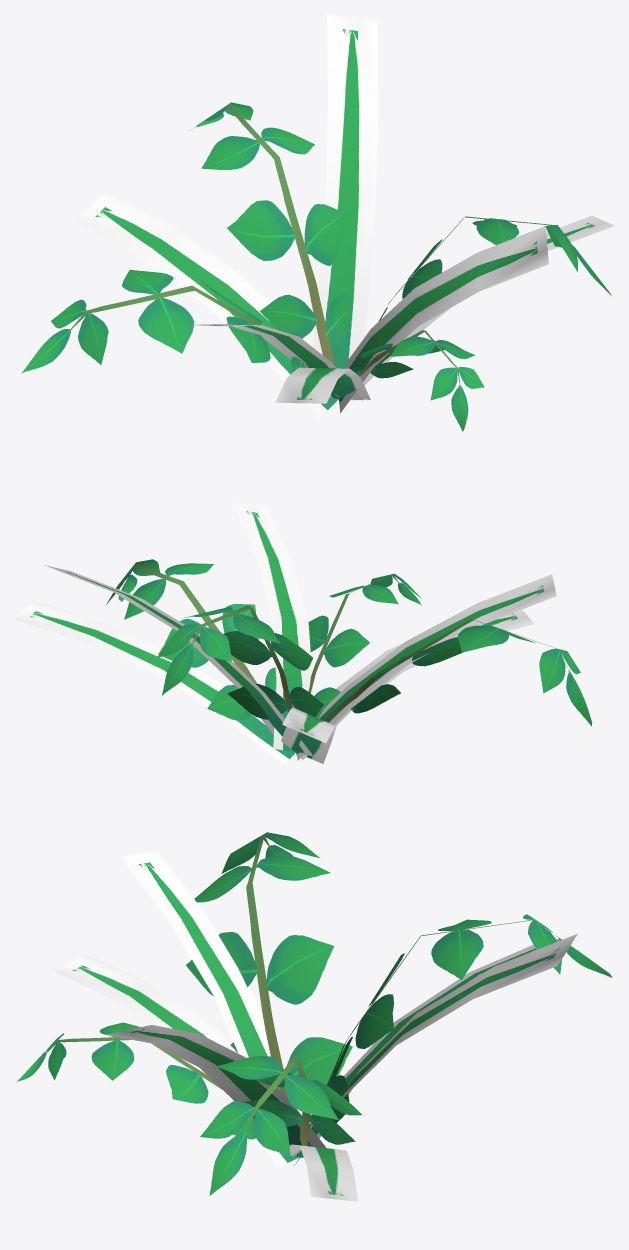
The model's file is plant-01.fbx.
The picture shows the model from 3 angles, top to bottom: view 1: azimuth 30°, elevation 25°; view 2: azimuth 150°, elevation 25°; view 3: azimuth 270°, elevation 25°; orthographic projection. The views are drawn at different scales.
Visible parts, largest first — view 1: pPlane136, pPlane128, pPlane126, pPlane131, pPlane137, pPlane132, pPlane133, pPlane138, pPlane139, pPlane140; view 2: pPlane128, pPlane137, pPlane140, pPlane131, pPlane139, pPlane133, pPlane132, pPlane136, pPlane126, pPlane138; view 3: pPlane131, pPlane133, pPlane139, pPlane128, pPlane138, pPlane137, pPlane136, pPlane132, pPlane140, pPlane126.
Boxes of the visible parts, x1,y1,x2,y2 form: pPlane136: [312, 14, 378, 401]; pPlane128: [191, 102, 351, 364]; pPlane126: [76, 189, 338, 418]; pPlane131: [21, 269, 338, 397]; pPlane137: [339, 226, 548, 413]; pPlane132: [335, 330, 484, 431]; pPlane133: [376, 216, 611, 365]; pPlane138: [275, 367, 370, 403]; pPlane139: [190, 324, 363, 400]; pPlane140: [350, 215, 614, 400]; pPlane128: [157, 605, 323, 719]; pPlane137: [231, 501, 313, 752]; pPlane140: [14, 600, 295, 764]; pPlane131: [324, 619, 592, 726]; pPlane139: [296, 574, 556, 760]; pPlane133: [106, 559, 276, 720]; pPlane132: [308, 573, 421, 718]; pPlane136: [44, 565, 313, 756]; pPlane126: [281, 707, 336, 763]; pPlane138: [301, 609, 534, 759]; pPlane131: [186, 832, 352, 1096]; pPlane133: [200, 1056, 361, 1195]; pPlane139: [120, 851, 299, 1112]; pPlane128: [309, 914, 612, 1126]; pPlane138: [53, 954, 298, 1167]; pPlane137: [105, 1025, 325, 1147]; pPlane136: [294, 933, 577, 1165]; pPlane132: [16, 1022, 290, 1146]; pPlane140: [283, 1144, 358, 1201]; pPlane126: [300, 938, 559, 1157].
Bounding box in the file's own units: 5.26 × 2.54 × 4.18.
2 materials, 2 textured.
